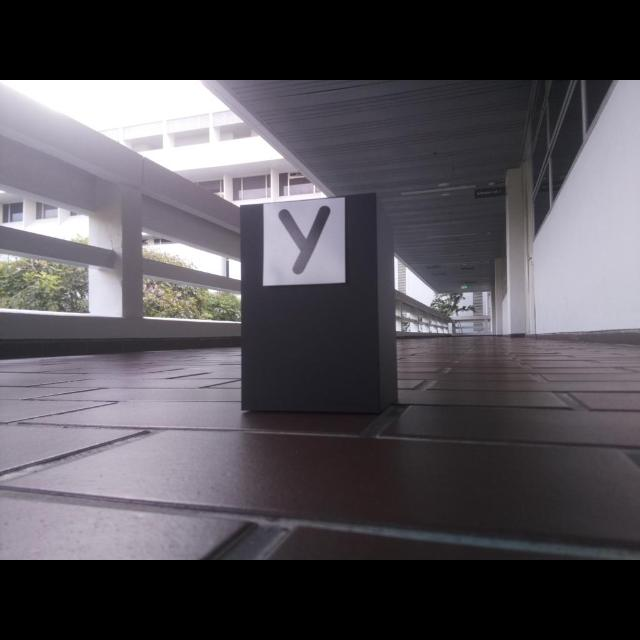Y: (279, 206, 330, 274)
